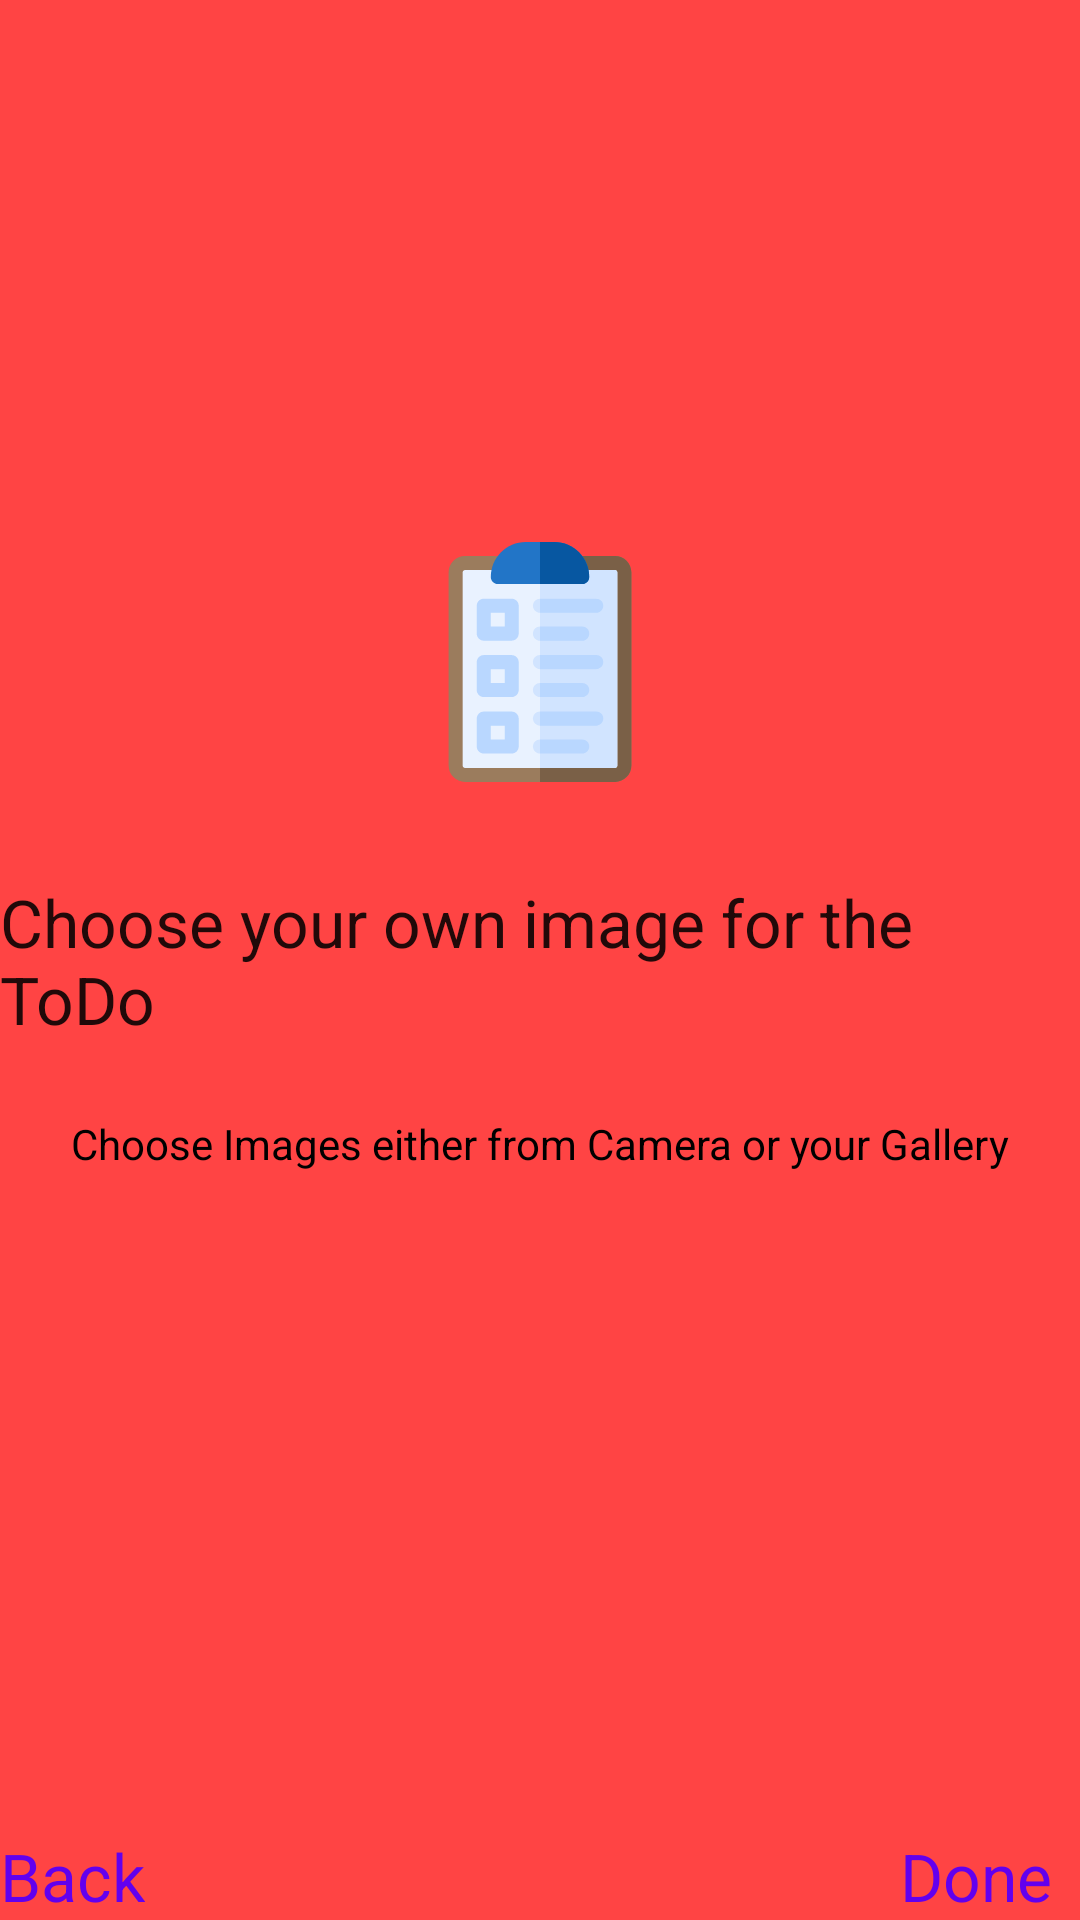

Where icons sit on this 1080 x 1920 app screen, as (x1, y1, x2, y2):
checklist: (448, 542, 632, 782)
